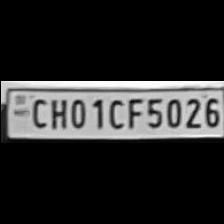0: (66, 96, 88, 130), (163, 96, 181, 128)
1: (88, 96, 104, 130)
2: (182, 94, 200, 130)
5: (143, 94, 161, 130)
6: (202, 94, 220, 128)
C: (104, 96, 124, 130), (27, 96, 47, 128)
F: (124, 95, 142, 129)
H: (47, 95, 67, 129)
